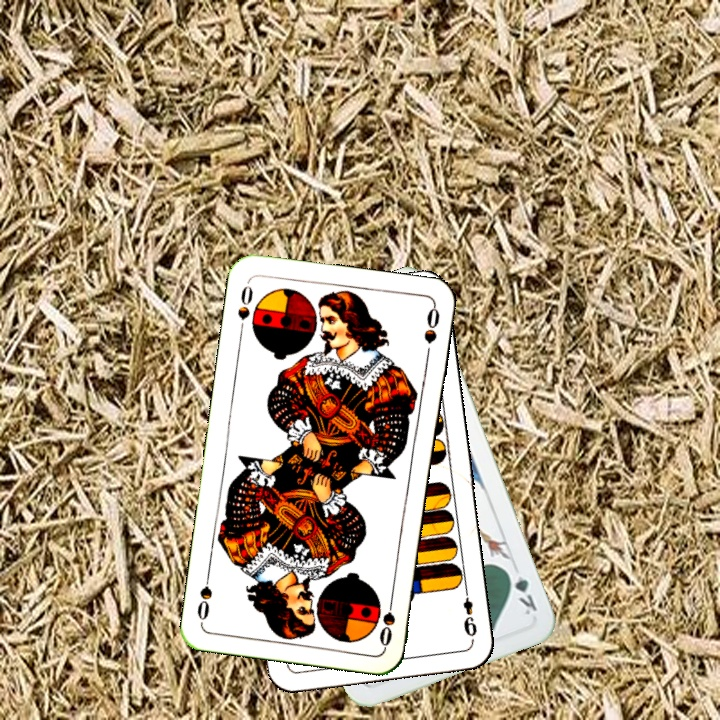E9: (458, 583, 480, 639)
GK: (502, 565, 540, 618)
SO: (375, 590, 398, 649), (234, 278, 256, 337)
